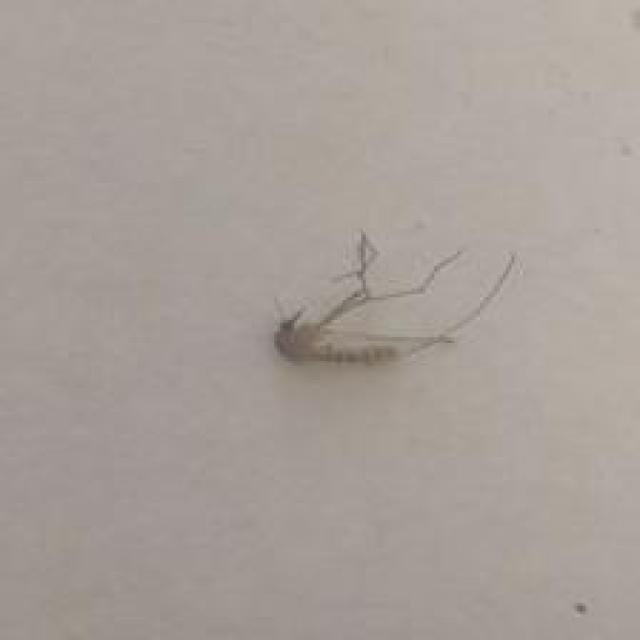Culex: (272, 228, 517, 368)
